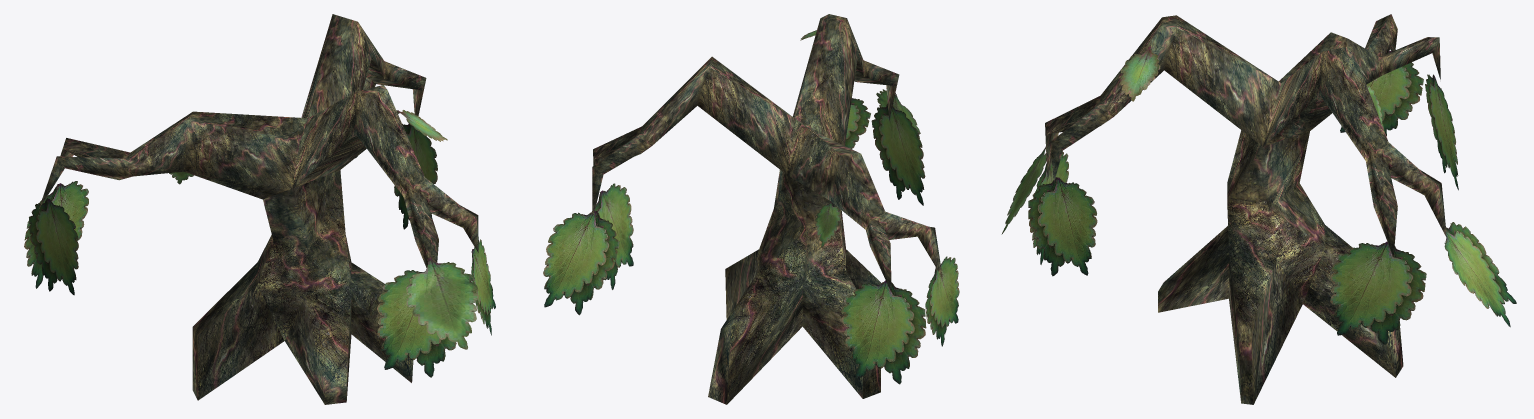
File: leaf_dath_hwotha_l1.fbx
The picture shows the model from 3 angles, left to right: view 1: azimuth 30°, elevation 25°; view 2: azimuth 150°, elevation 25°; view 3: azimuth 270°, elevation 25°; orthographic projection. The views are drawn at different scales.
Parts seen in each view (by area): view 1: mesh_node; view 2: mesh_node; view 3: mesh_node.
Part boxes in pixels (<box>): mesh_node: <box>24,14,495,404</box>; mesh_node: <box>543,14,959,404</box>; mesh_node: <box>1001,14,1516,404</box>.
Size of the model in its own units: 3.93 by 3.11 by 4.3.
2 materials, 2 textured.
